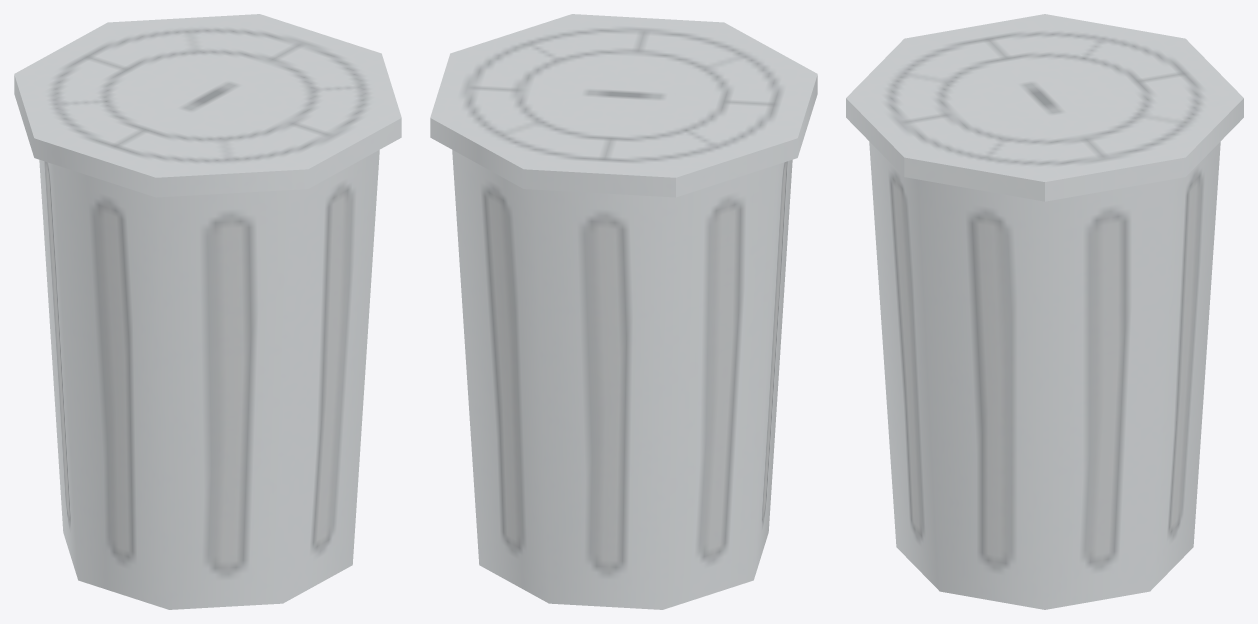
File: TrashCan.glb
3 renders of one model, left to right at view 1: azimuth 30°, elevation 25°; view 2: azimuth 150°, elevation 25°; view 3: azimuth 270°, elevation 25°, orthographic.
Visible parts, largest first — view 1: trash_can; view 2: trash_can; view 3: trash_can.
Part boxes in pixels (box(x1,y1,x2,y2)): trash_can: box(14, 14, 401, 609); trash_can: box(430, 14, 817, 609); trash_can: box(846, 14, 1243, 609).
Size of the model in its own units: 0.2675 by 0.3331 by 0.2675.
Materials: 1 (1 with a texture image).
